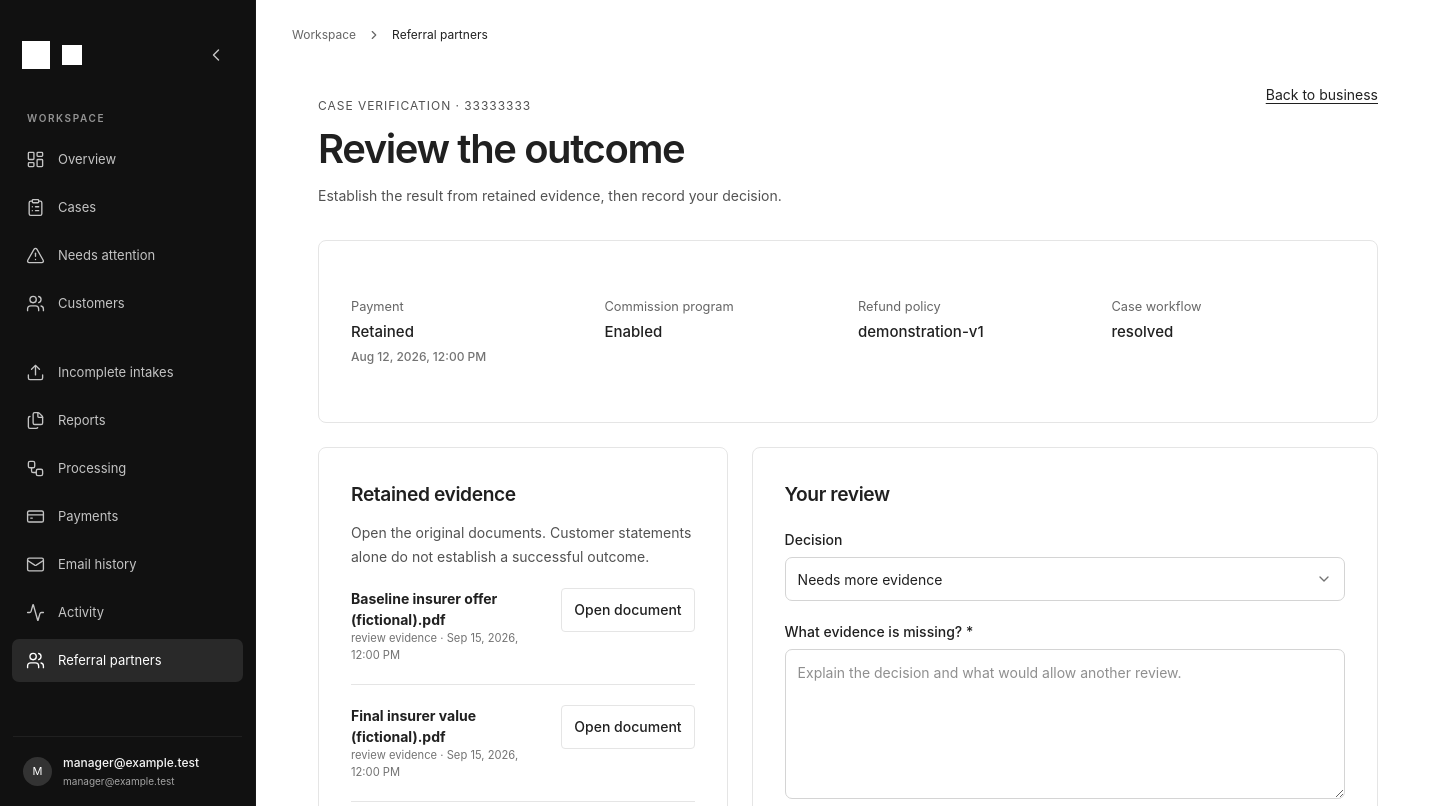
manager outcome review › defaults to missing evidence and saves a private decision without a commission
Expected: the dropdown labelled "Decision" shows "Needs more evidence", [785,557,1345,601]
Type "Please retain reliable final acceptance evidence." into the text box labelled "What evidence is missing? *".
click(1065, 724); type("Please retain reliable final acceptance evidence.")  # box [785,649,1345,799]
(page scrolled)
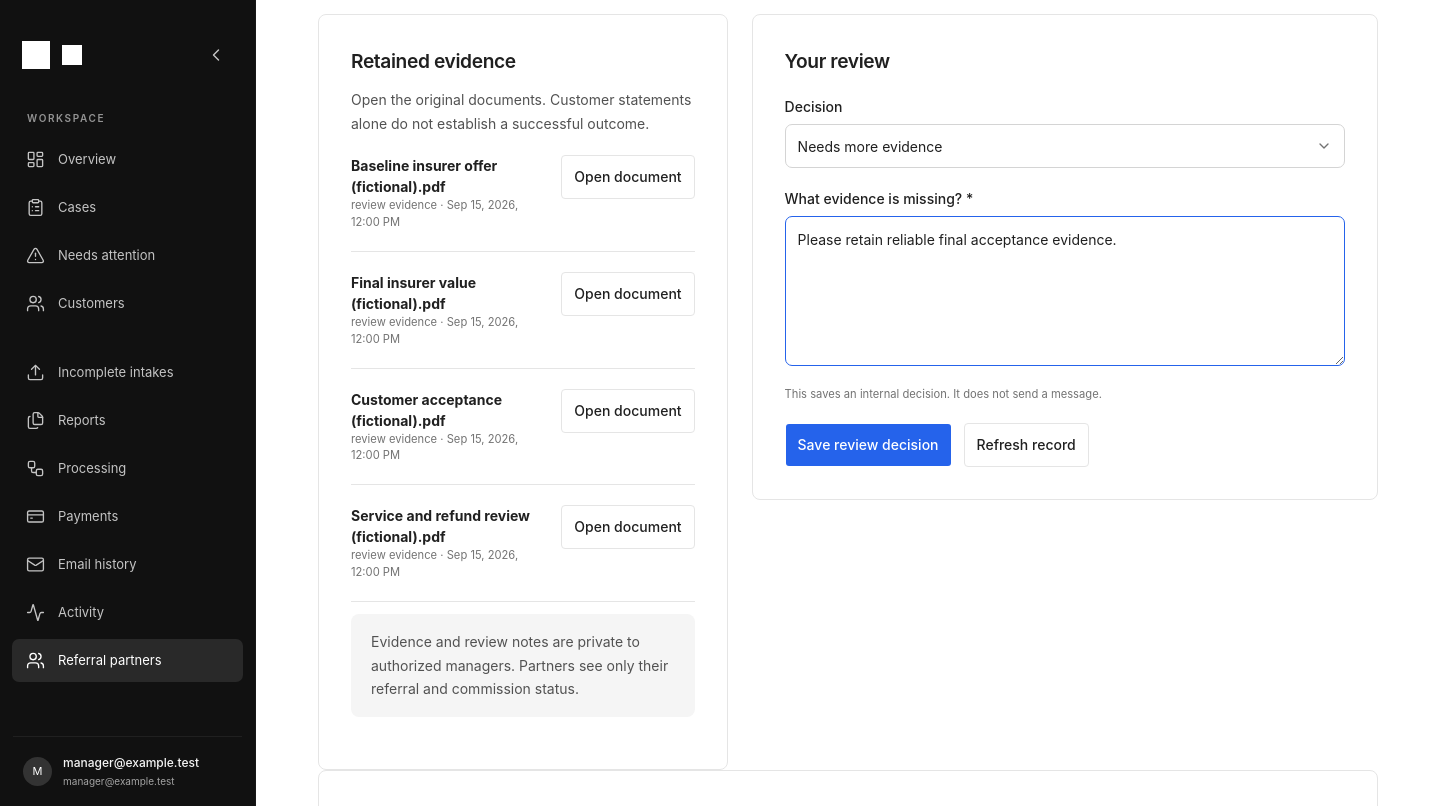
Click the button "Save review decision".
click(868, 445)  # box [785,423,952,467]
(page scrolled)
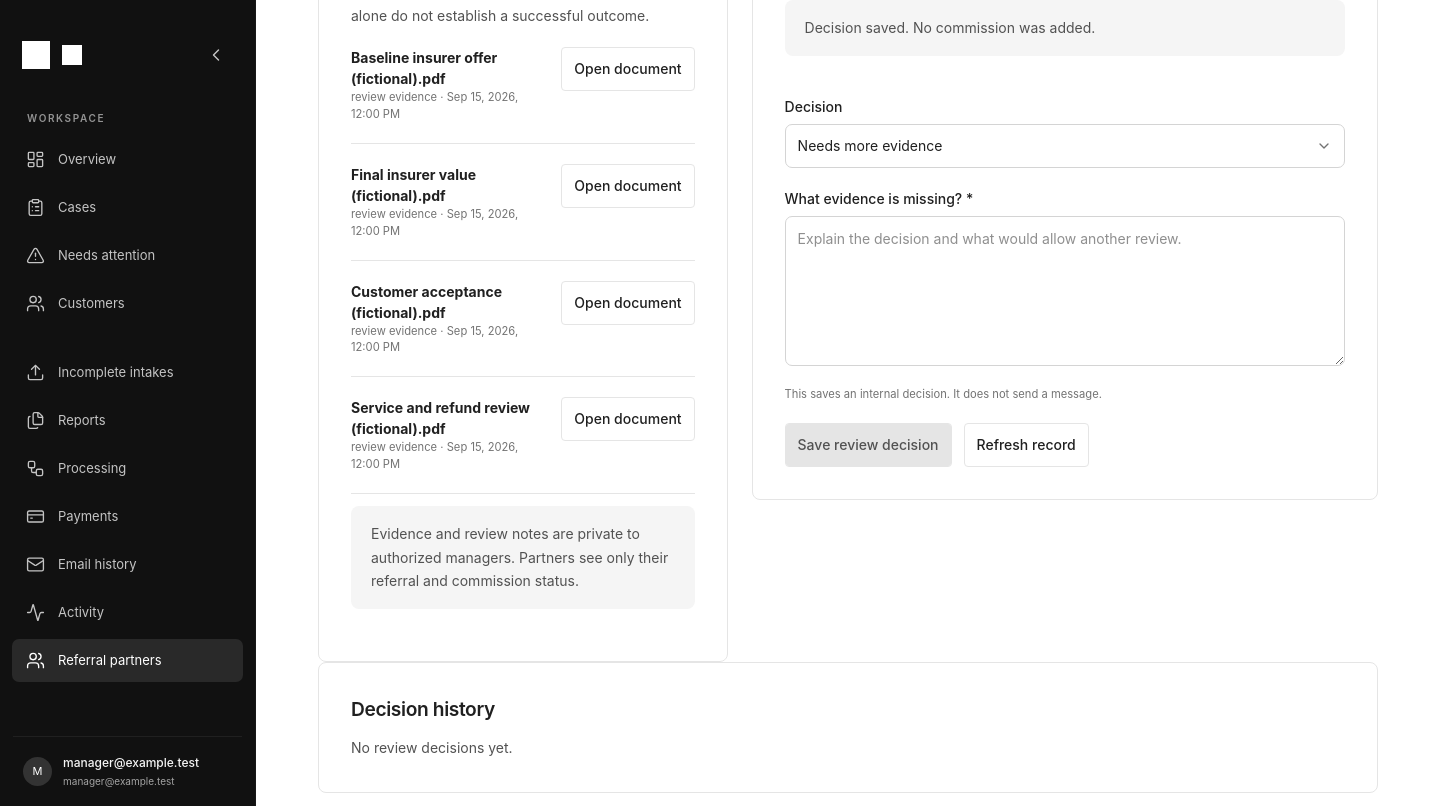
Expected: the message shows "No commission was added", [805,19,1095,36]
